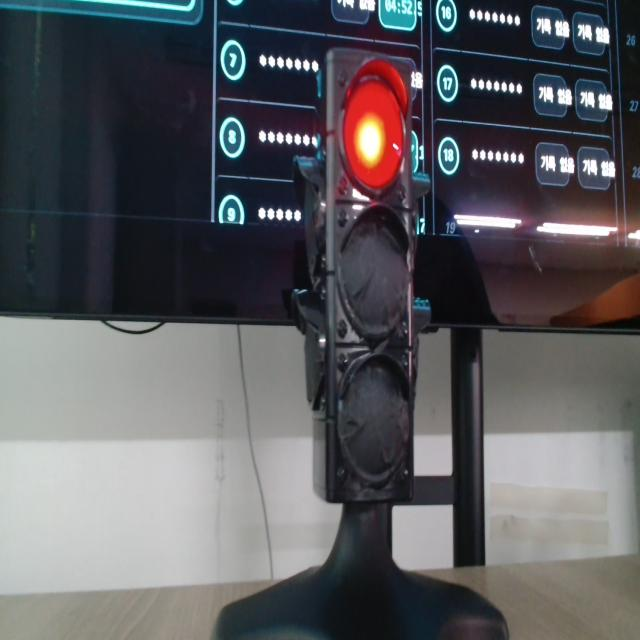red_light: (343, 75, 404, 190)
